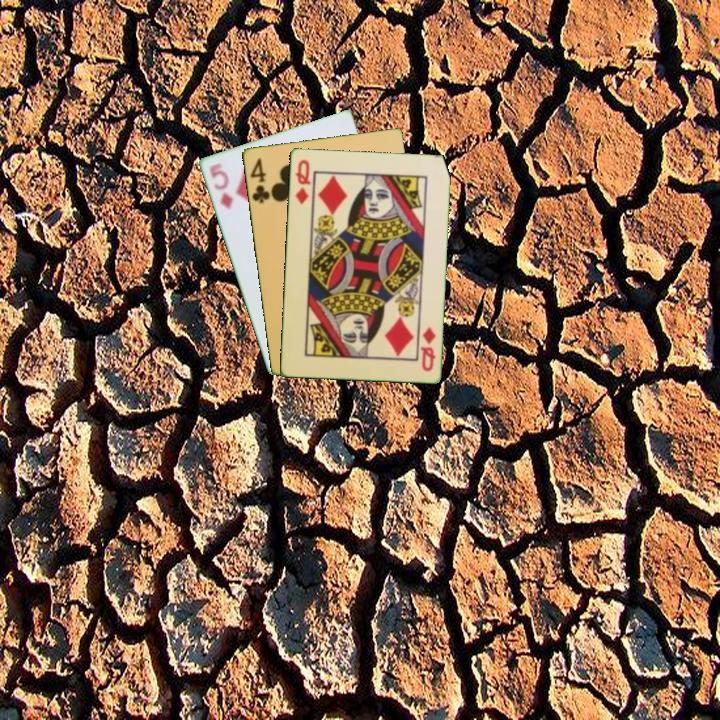4c: (246, 154, 272, 206)
5d: (205, 159, 235, 212)
Qd: (291, 156, 313, 207), (417, 323, 438, 374)
